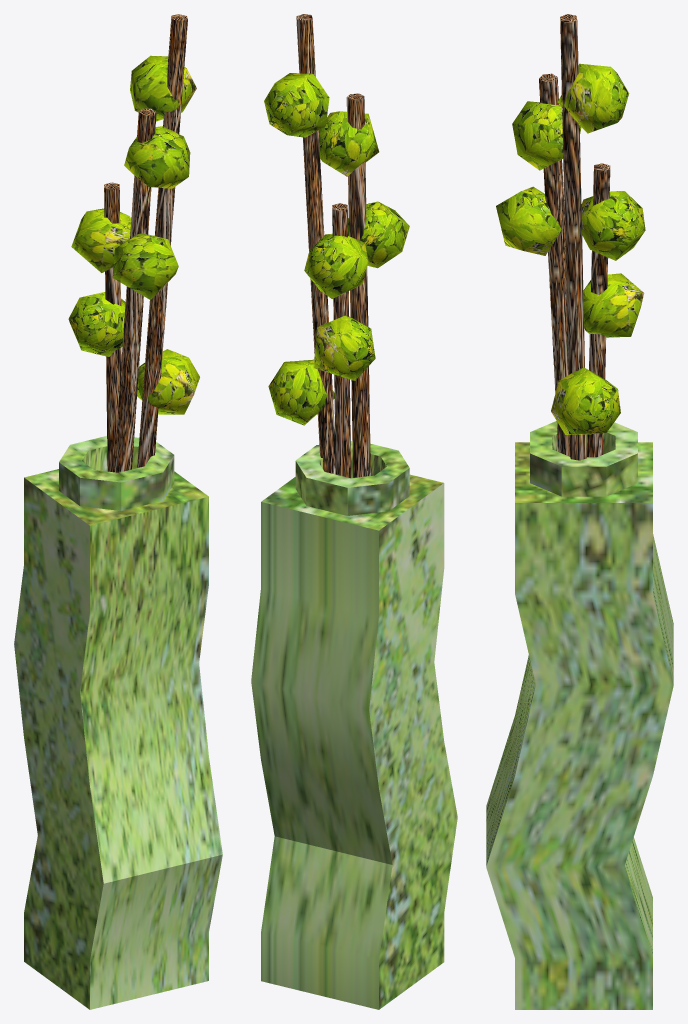
File: weegle pot2.FBX
The picture shows the model from 3 angles, left to right: view 1: azimuth 30°, elevation 25°; view 2: azimuth 150°, elevation 25°; view 3: azimuth 270°, elevation 25°; orthographic projection. The views are drawn at different scales.
Visible parts, largest first — view 1: Box001, Cylinder001, Cylinder003, Sphere002, Sphere004, Sphere003, Cylinder002, Sphere006, Sphere005, Sphere001; view 2: Box001, Cylinder001, Cylinder003, Sphere006, Sphere003, Sphere001, Sphere005, Sphere004, Cylinder002, Sphere002; view 3: Box001, Cylinder001, Cylinder003, Sphere005, Sphere001, Sphere006, Sphere002, Sphere003, Sphere004, Cylinder002.
Boxes of the visible parts, left/top/right/bottom form: Box001: left=14, top=436, right=222, bottom=1009; Cylinder001: left=137, top=14, right=187, bottom=467; Cylinder003: left=114, top=108, right=156, bottom=472; Sphere002: left=112, top=233, right=178, bottom=299; Sphere004: left=124, top=126, right=190, bottom=188; Sphere003: left=68, top=292, right=125, bottom=356; Cylinder002: left=104, top=182, right=121, bottom=472; Sphere006: left=130, top=55, right=196, bottom=121; Sphere005: left=137, top=349, right=199, bottom=414; Sphere001: left=71, top=208, right=131, bottom=272; Box001: left=251, top=441, right=457, bottom=1009; Cylinder001: left=296, top=14, right=335, bottom=474; Cylinder003: left=346, top=93, right=370, bottom=477; Sphere006: left=264, top=73, right=329, bottom=137; Sphere003: left=313, top=315, right=375, bottom=380; Sphere001: left=304, top=233, right=368, bottom=298; Sphere005: left=268, top=359, right=334, bottom=425; Sphere004: left=318, top=111, right=379, bottom=176; Cylinder002: left=332, top=203, right=350, bottom=478; Sphere002: left=348, top=201, right=409, bottom=268; Box001: left=486, top=421, right=673, bottom=1009; Cylinder001: left=560, top=14, right=586, bottom=460; Cylinder003: left=539, top=73, right=569, bottom=456; Sphere005: left=551, top=367, right=620, bottom=434; Sphere001: left=581, top=191, right=645, bottom=260; Sphere006: left=557, top=63, right=629, bottom=133; Sphere002: left=496, top=186, right=561, bottom=255; Sphere003: left=583, top=273, right=644, bottom=337; Sphere004: left=512, top=101, right=581, bottom=170; Cylinder002: left=587, top=163, right=610, bottom=457.
Size of the model in its own units: 263 by 1712 by 294.
Materials: 3 (3 with a texture image).
